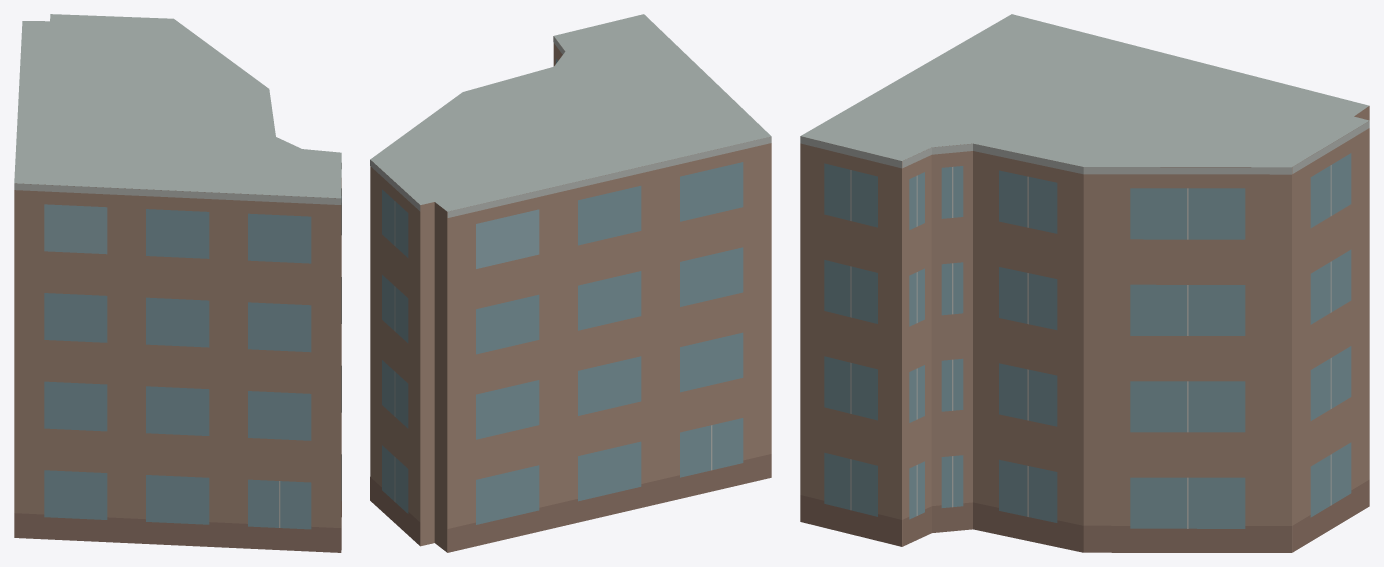
The model's file is survey-upis-32967419.glb.
The picture shows the model from 3 angles, left to right: view 1: azimuth 30°, elevation 25°; view 2: azimuth 150°, elevation 25°; view 3: azimuth 270°, elevation 25°; orthographic projection. The views are drawn at different scales.
Parts seen in each view (by area): view 1: survey-upis-32967419.tmp; view 2: survey-upis-32967419.tmp; view 3: survey-upis-32967419.tmp.
Part boxes in pixels (x1,y1,x2,y2): survey-upis-32967419.tmp: [14, 14, 341, 552]; survey-upis-32967419.tmp: [370, 14, 771, 552]; survey-upis-32967419.tmp: [800, 14, 1369, 552].
Bounding box in the file's own units: 10.91 × 12.8 × 17.13.
